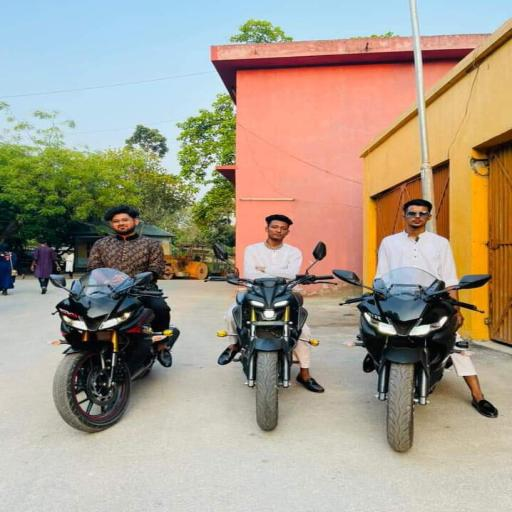overloading: (40, 195, 500, 451)
